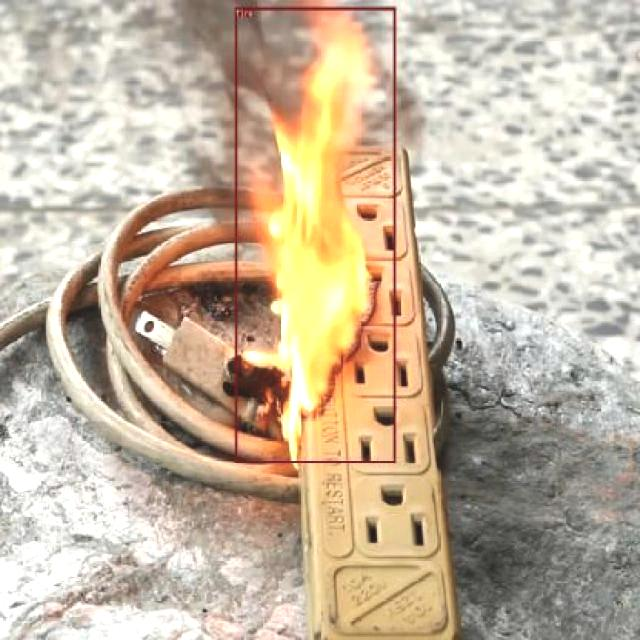fire: (234, 7, 394, 462)
